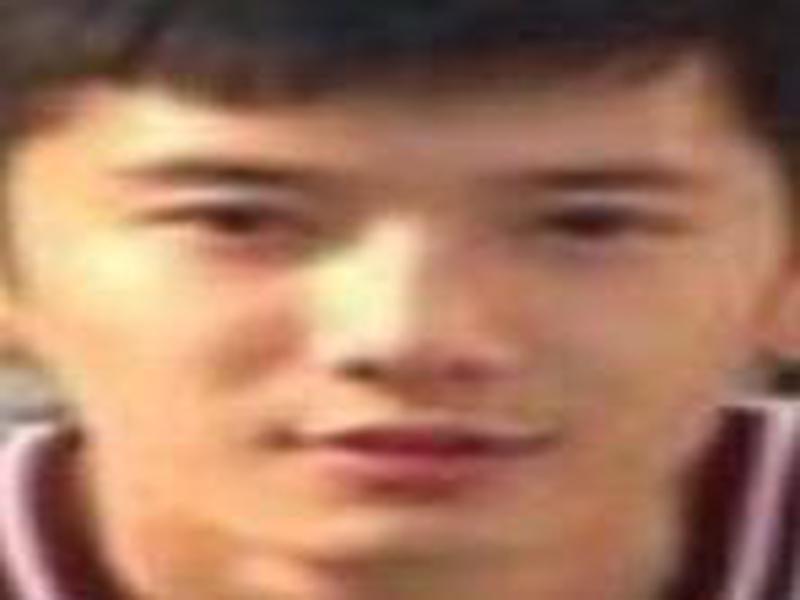without_mask: (34, 67, 740, 567)
